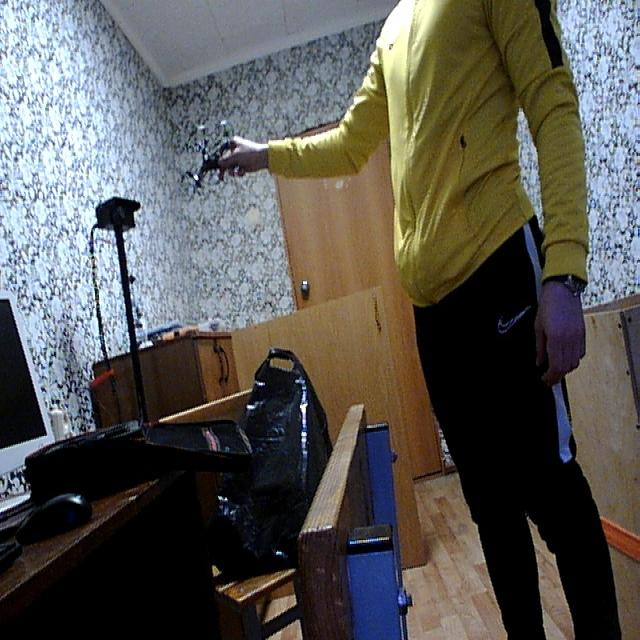drone: (181, 105, 240, 196)
